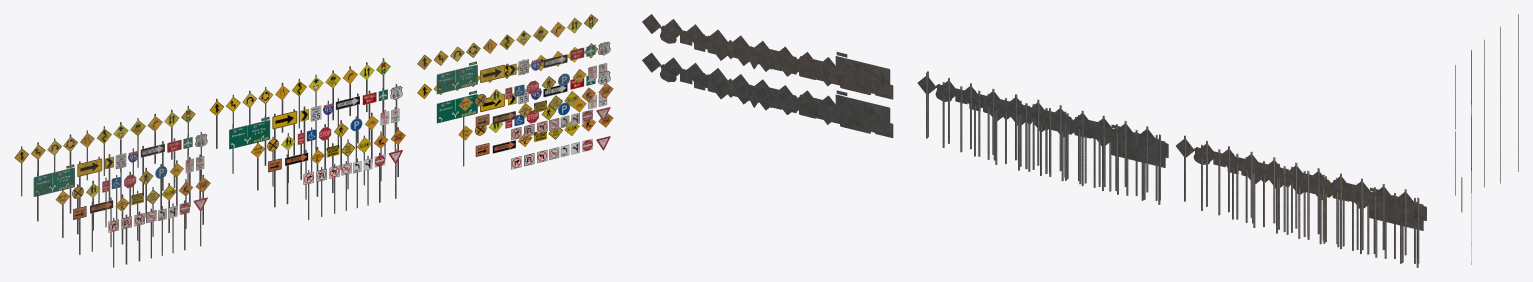
Rendered from road_signs.glb.
3 renders of one model, left to right at view 1: azimuth 30°, elevation 25°; view 2: azimuth 150°, elevation 25°; view 3: azimuth 270°, elevation 25°, orthographic. The views are drawn at different scales.
Parts seen in each view (by area): view 1: Cube.181_190, Cube.004_46, Cube.030_128, Cube.121_79, Cube.178_187, Cube.077_43, Cube.091_45, Cube.180_189; view 2: Cube.181_190, Cube.004_46, Cube.030_128, Cube.121_79, Cube.178_187, Cube.077_43; view 3: Cube.012_95.
Part boxes in pixels (left/top/right/bottom): Cube.181_190: left=33, top=163, right=74, bottom=221; Cube.004_46: left=229, top=116, right=270, bottom=173; Cube.030_128: left=436, top=64, right=477, bottom=94; Cube.121_79: left=436, top=93, right=477, bottom=123; Cube.178_187: left=77, top=156, right=102, bottom=204; Cube.077_43: left=272, top=109, right=297, bottom=157; Cube.091_45: left=285, top=149, right=308, bottom=204; Cube.180_189: left=90, top=197, right=113, bottom=251; Cube.181_190: left=1369, top=187, right=1423, bottom=263; Cube.004_46: left=1111, top=124, right=1165, bottom=200; Cube.030_128: left=835, top=56, right=890, bottom=95; Cube.121_79: left=835, top=94, right=890, bottom=133; Cube.178_187: left=1333, top=177, right=1366, bottom=250; Cube.077_43: left=1075, top=115, right=1107, bottom=187; Cube.012_95: left=1461, top=177, right=1462, bottom=212.
Bounding box in the file's own units: 140 × 23.36 × 18.82.
Materials: 2 (2 with a texture image).
